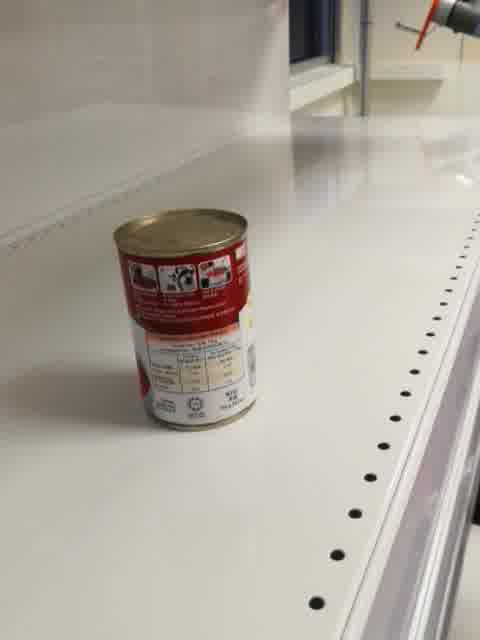tomatosoup: (110, 204, 261, 432)
